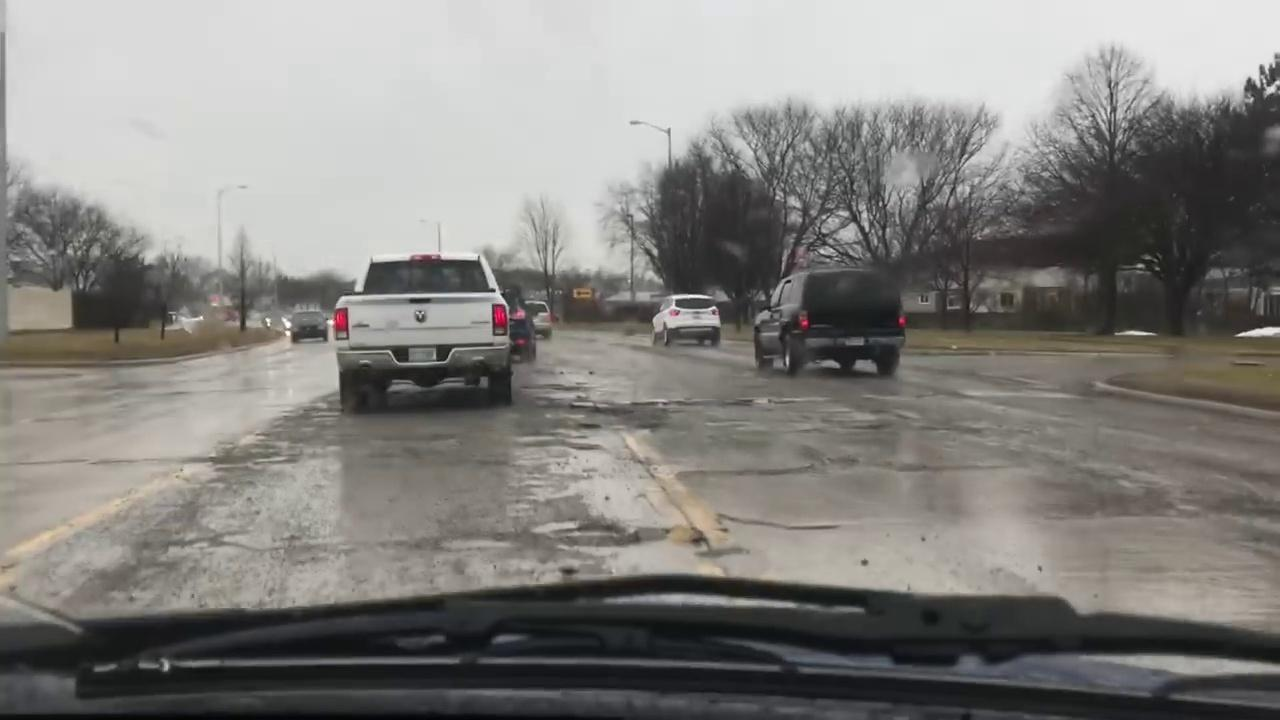pothole: (522, 513, 631, 555), (619, 413, 674, 432)
